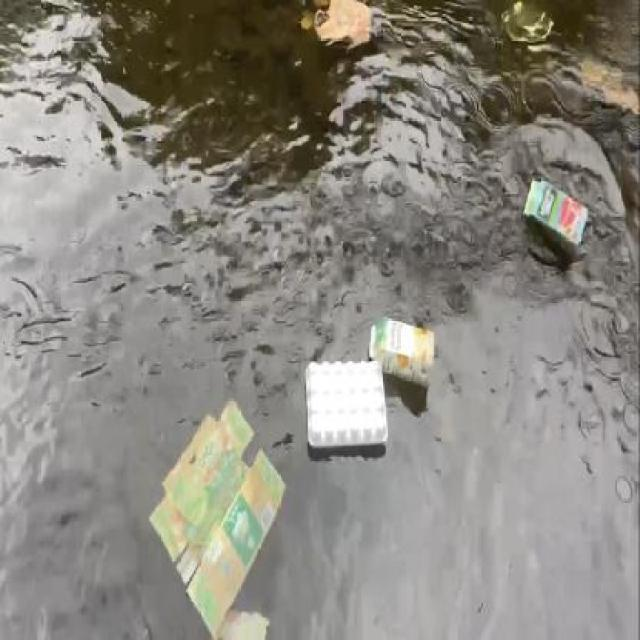Can-Metal: (497, 0, 560, 55)
Cardboard: (146, 389, 291, 640), (366, 311, 442, 397), (521, 172, 593, 258)
Paper: (303, 0, 378, 52)
Plastic: (300, 353, 392, 450)
